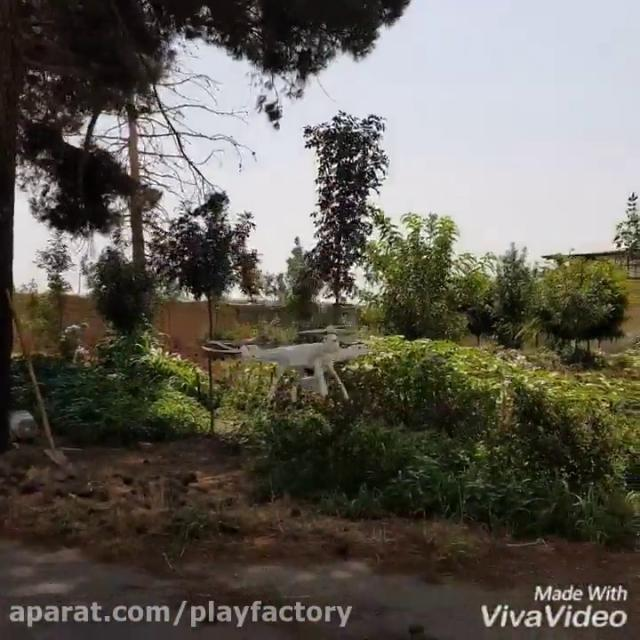drone: (201, 324, 375, 398)
